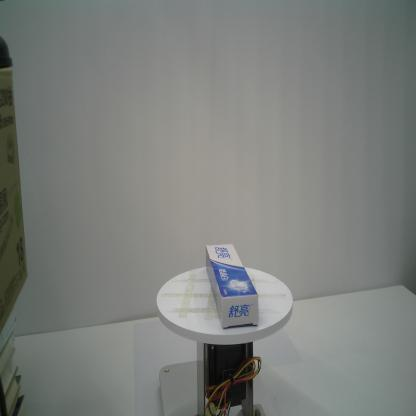Personal Hygiene: (205, 244, 259, 328)
